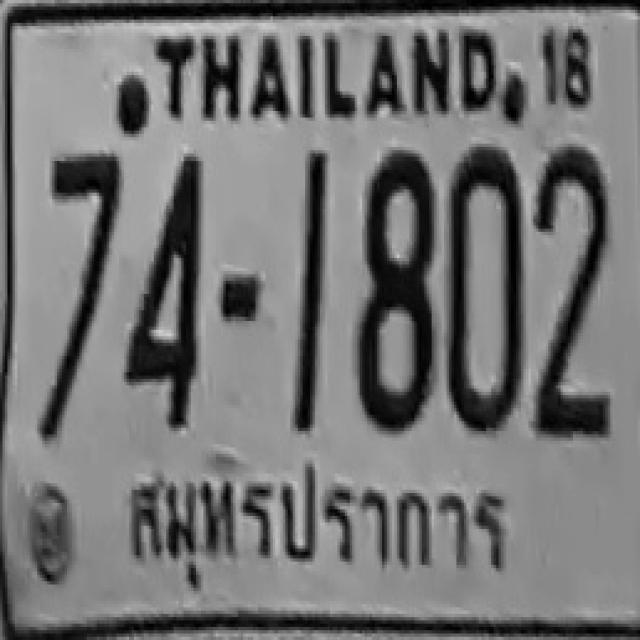0: (446, 145, 521, 433)
1: (296, 149, 328, 403)
2: (534, 144, 610, 405)
4: (123, 150, 202, 428)
7: (36, 150, 120, 441)
8: (355, 148, 434, 430)
SamutPrakan: (118, 454, 520, 604)
